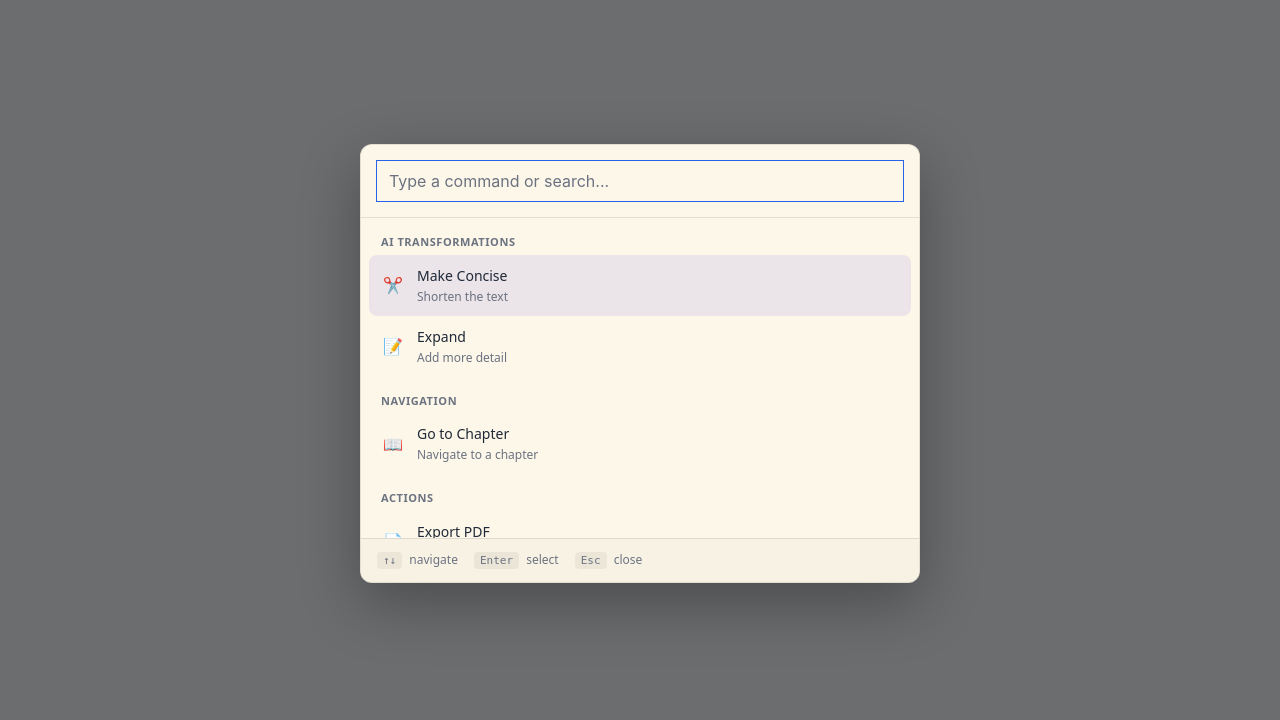
Test: CommandPalette › AC 5.2.5: Navigation Commands › shows navigation confirmation after navigating
Type "chapter 1" into the dropdown with placeholder "Type a command or search..." at (640, 181), box [377, 161, 903, 201]
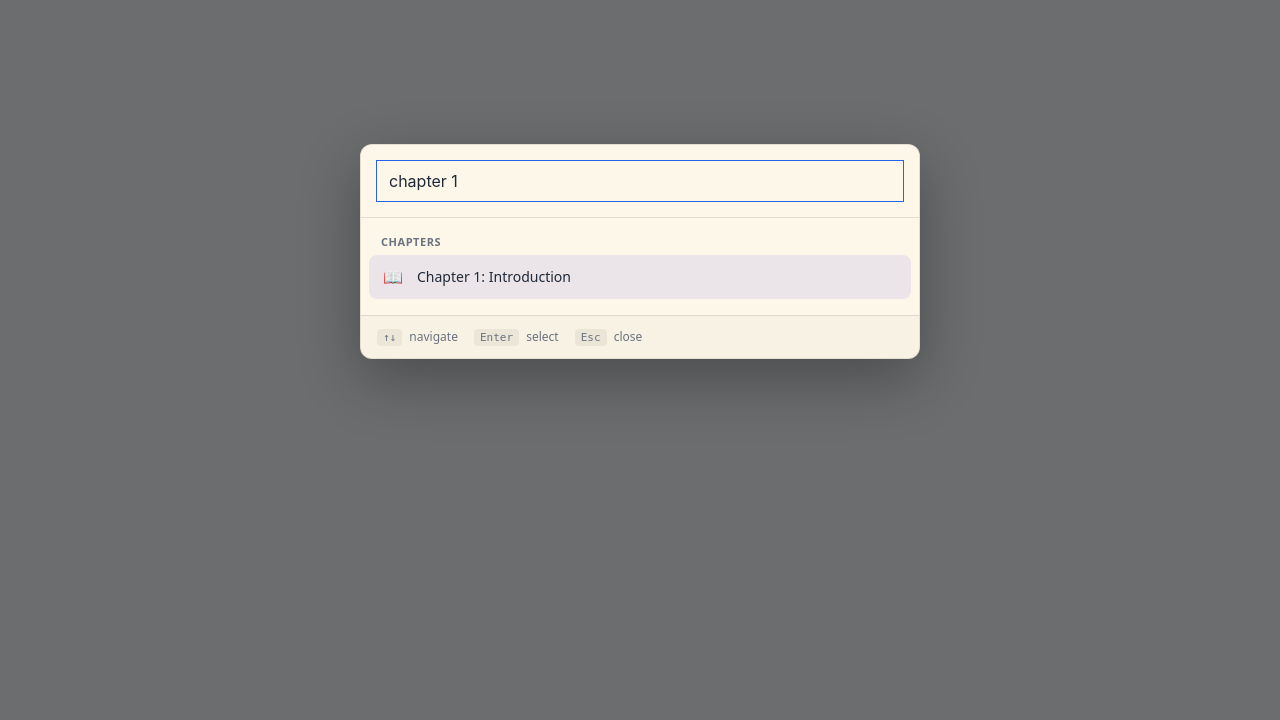
Press Enter
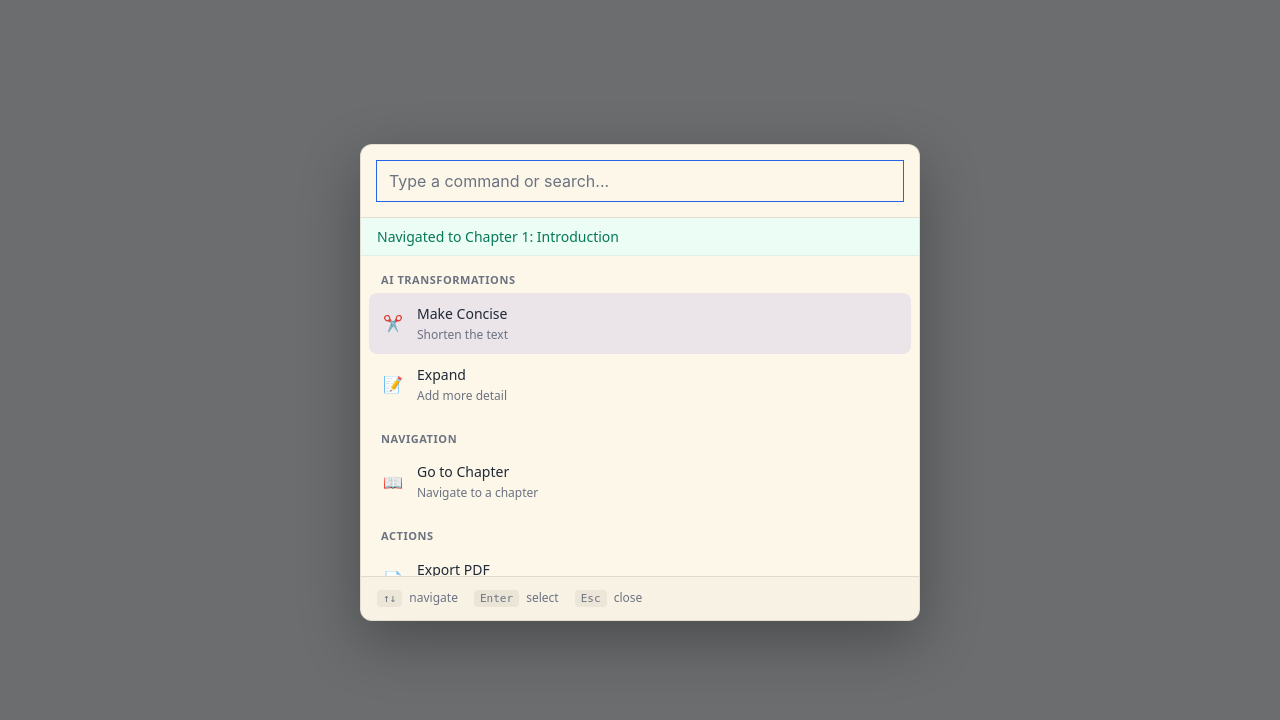
Result: the text "Navigated to Chapter 1: Introduction" is shown at [361, 218, 919, 256]
